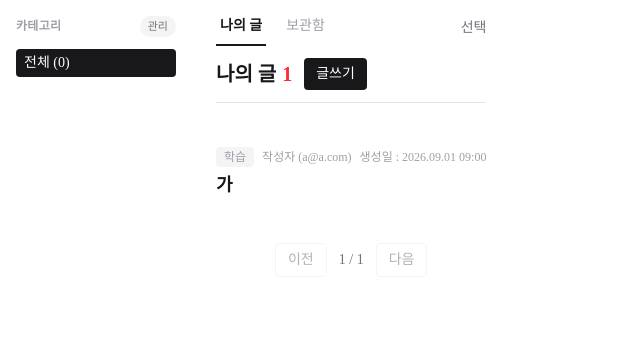
MyPostsPage — 보관함 › [선택 취소]를 누르면 선택이 사라지고 체크박스도 없어진다
Expected: the link "가" is shown, 216,175 -> 233,195
Click the button "선택" at (474, 32), box 461,18 -> 486,46
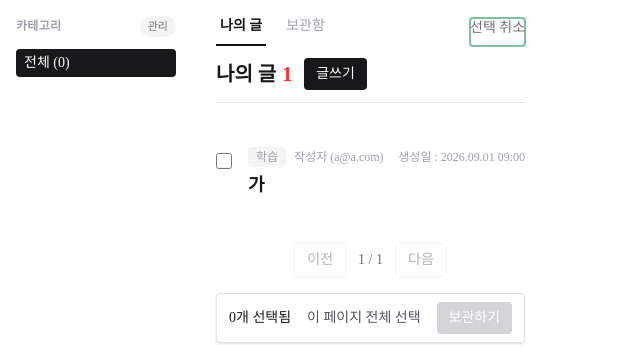
Click the checkbox named "가 선택" at (224, 161), box 216,153 -> 232,169
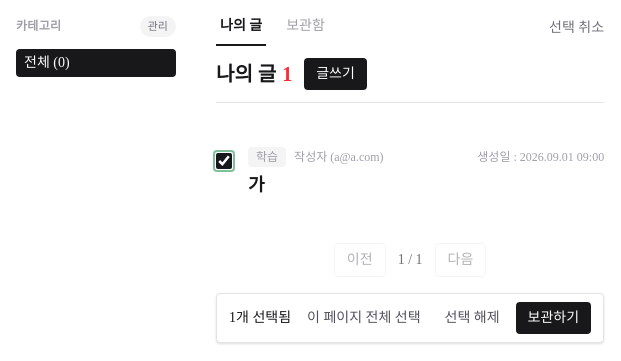
Click the button "선택 취소" at (577, 32), box 549,18 -> 604,46
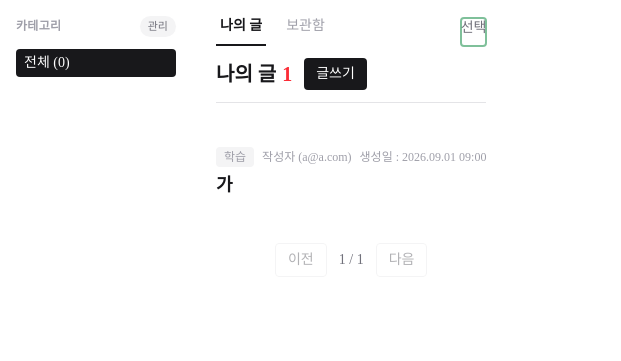
Expected: the checkbox is gone
# 다시 켜면 이전 선택은 남아 있지 않다
Click the button "선택" at (474, 32), box 461,18 -> 486,46
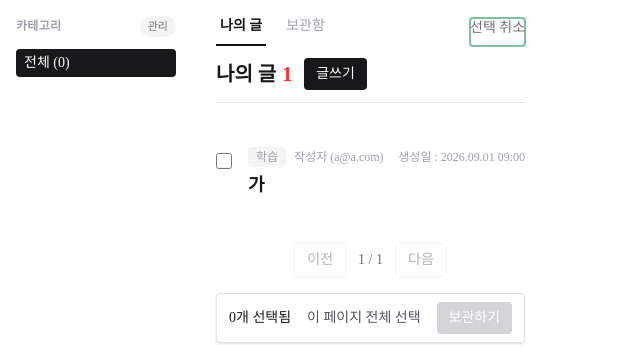
Expected: the checkbox named "가 선택" is not checked, 216,153 -> 232,169
